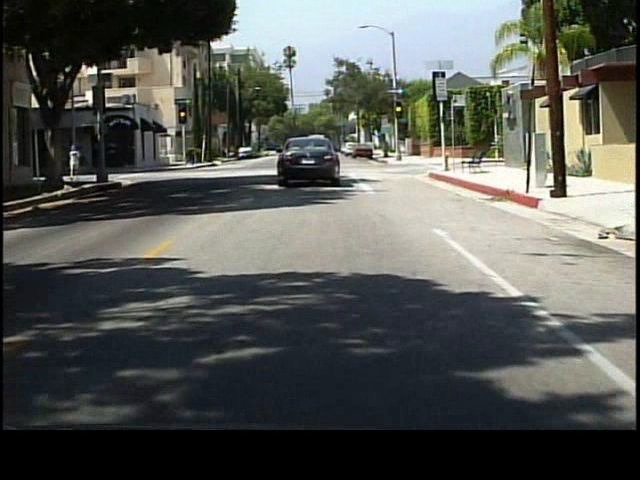person: (68, 144, 85, 187)
